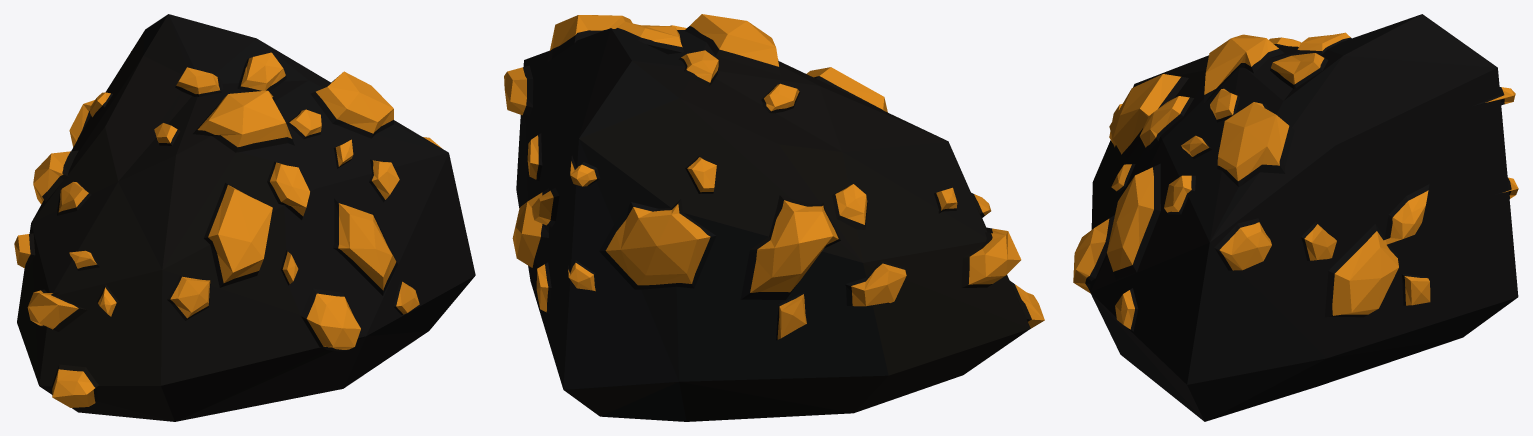
File: Gold Ore Rock.obj
3 views of the same model, side by side, from view 1: azimuth 30°, elevation 25°; view 2: azimuth 150°, elevation 25°; view 3: azimuth 270°, elevation 25° (orthographic). The views are drawn at different scales.
Parts seen in each view (by area): view 1: Gold_Ore_Rock.Static; view 2: Gold_Ore_Rock.Static; view 3: Gold_Ore_Rock.Static.
Boxes of the visible parts, bbox=[...] form: Gold_Ore_Rock.Static: bbox=[14, 14, 475, 421]; Gold_Ore_Rock.Static: bbox=[504, 14, 1044, 421]; Gold_Ore_Rock.Static: bbox=[1073, 14, 1518, 421].
Size of the model in its own units: 1.64 by 1.03 by 1.31.
